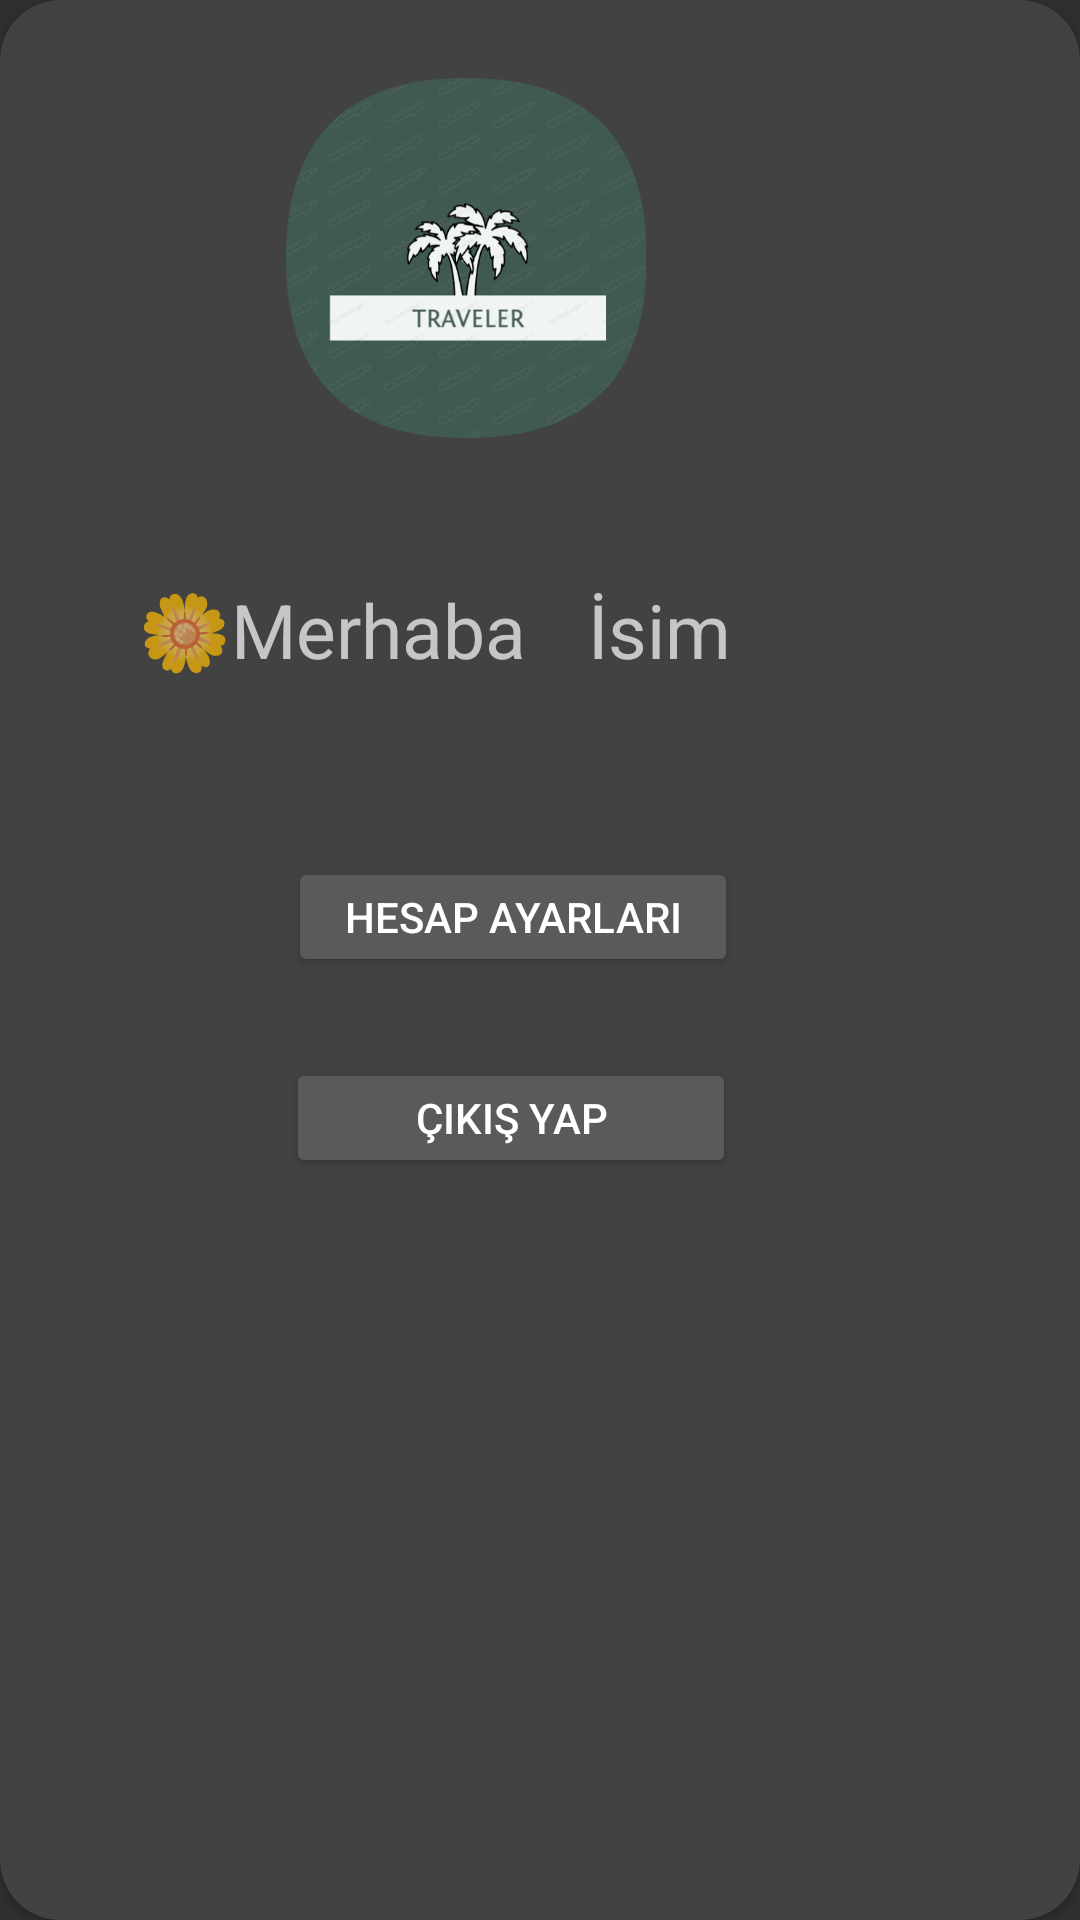

Icons on this 1080 x 1920 Android screen, each with the point to tap as [x,y]:
palmtreeo: [466,258]
